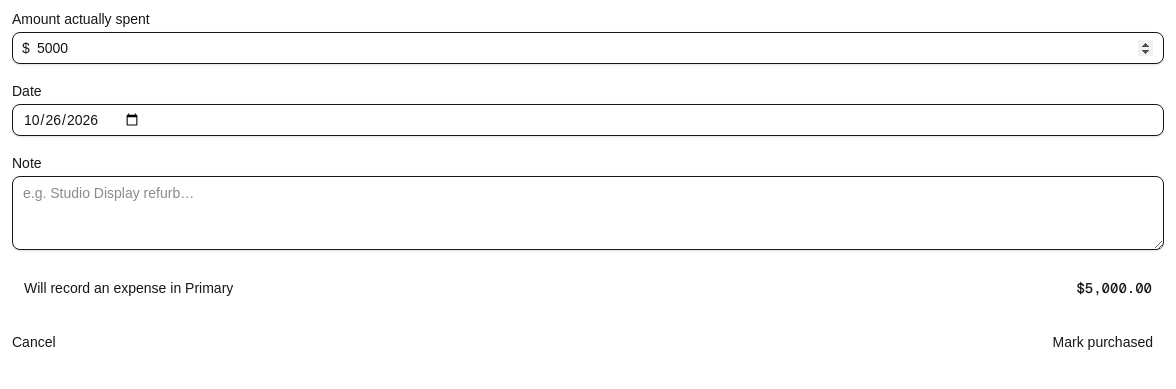
it: GoalPurchaseForm — actions › Mark purchased button calls onSubmit › shows an amount error when amount is cleared and submit is clicked
The image size is (1176, 389).
Clear the number field labelled "Amount actually spent": (588, 48) [12, 32, 1164, 64]
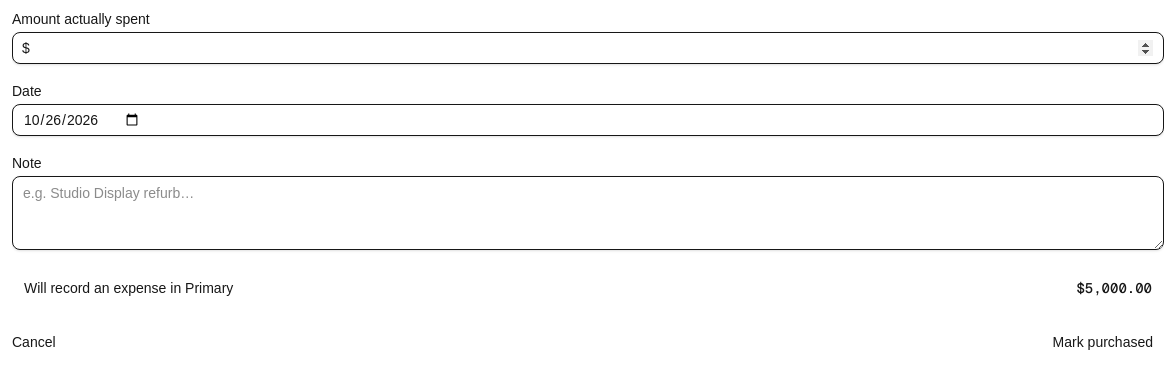
Click the button "Mark purchased": (1103, 342) [1042, 326, 1164, 358]
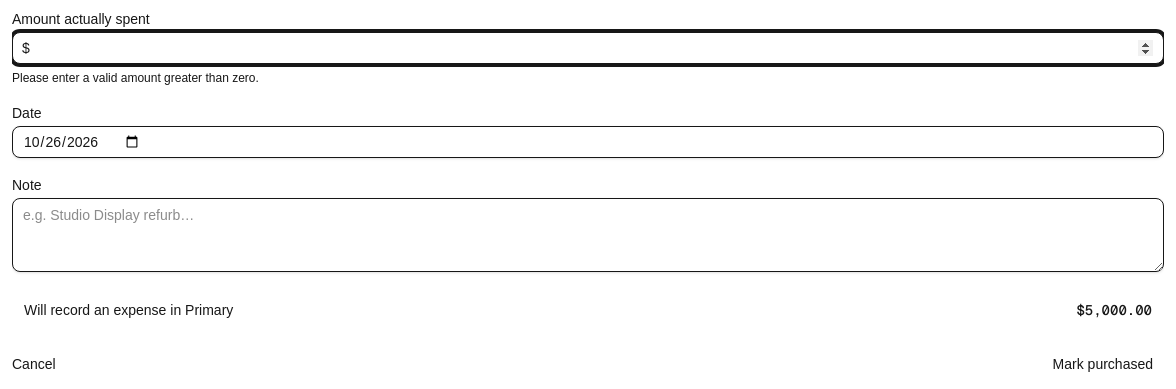
Expected: the text "Please enter a valid amount greater than zero." is shown, [12, 71, 259, 85]
